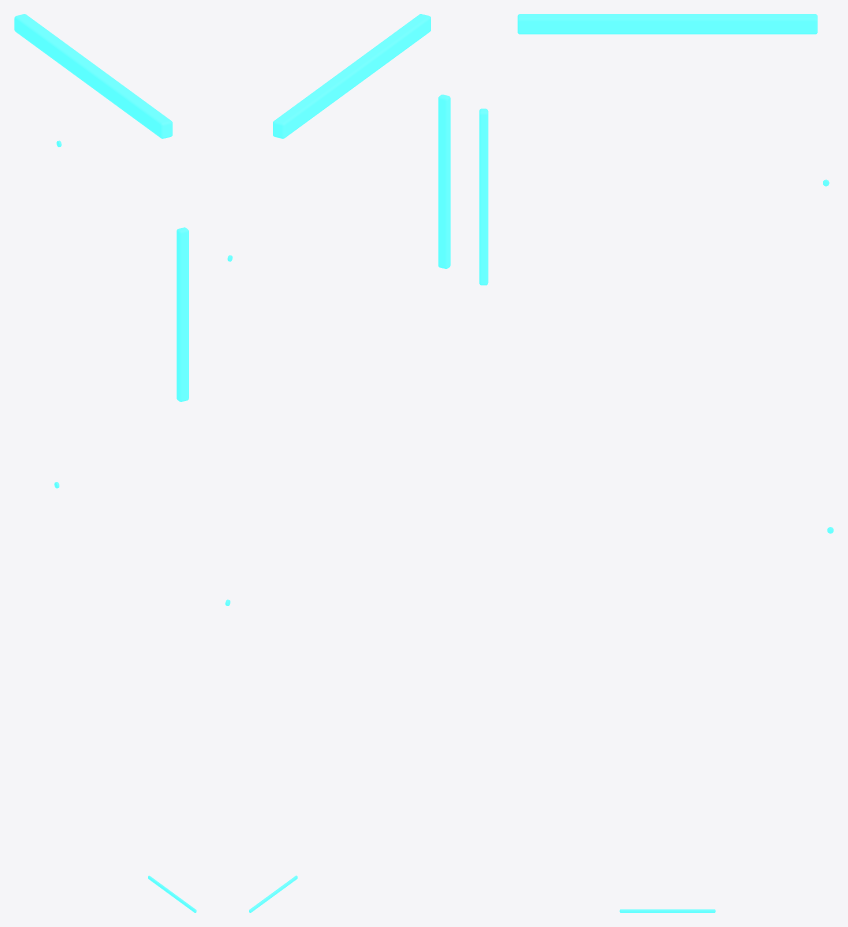
File: SM_Charger_GameStatus.fbx
3 renders of one model, left to right at view 1: azimuth 30°, elevation 25°; view 2: azimuth 150°, elevation 25°; view 3: azimuth 270°, elevation 25°, orthographic.
Visible parts, largest first — view 1: SM_Charger_StatusLight.001; view 2: SM_Charger_StatusLight.001; view 3: SM_Charger_StatusLight.001.
Part boxes in pixels (bbox=[...]): SM_Charger_StatusLight.001: bbox=[14, 14, 196, 912]; SM_Charger_StatusLight.001: bbox=[225, 14, 450, 912]; SM_Charger_StatusLight.001: bbox=[479, 14, 833, 912].
Bounding box in the file's own units: 0.158 × 0.555 × 1.48.
